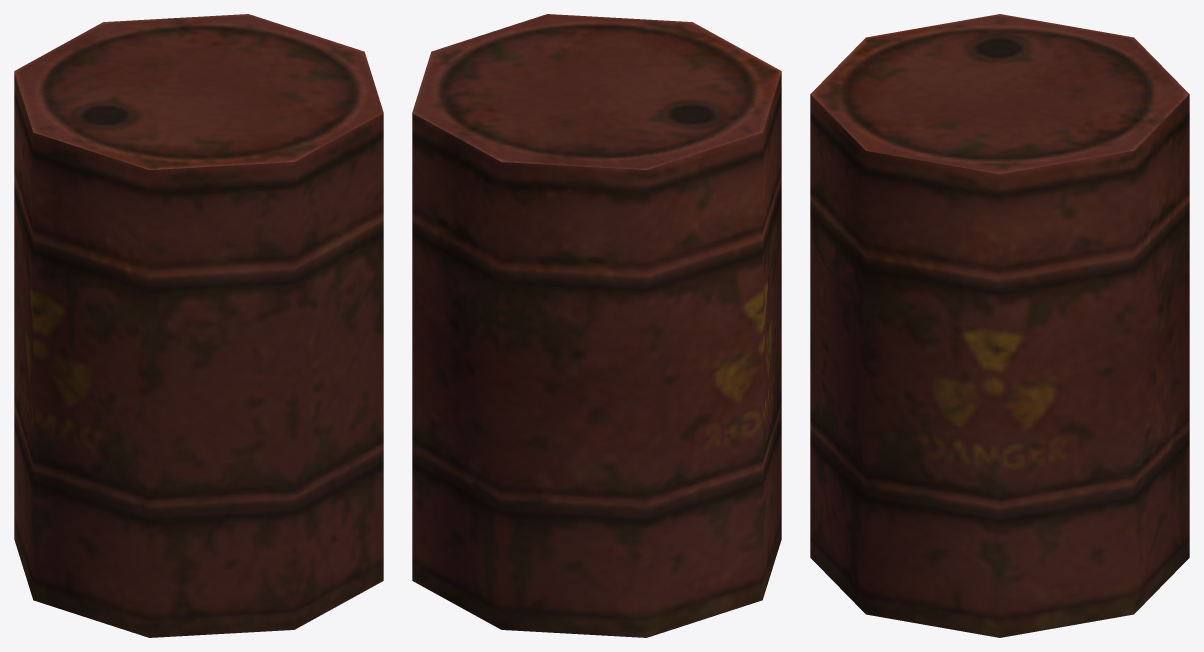
File: Stage-gongchang-youtong2.FBX
3 renders of one model, left to right at view 1: azimuth 30°, elevation 25°; view 2: azimuth 150°, elevation 25°; view 3: azimuth 270°, elevation 25°, orthographic.
Visible parts, largest first — view 1: Object31; view 2: Object31; view 3: Object31.
Part boxes in pixels (x1,y1,x2,y2): Object31: (14, 14, 383, 637); Object31: (412, 14, 781, 637); Object31: (810, 14, 1189, 637).
Bounding box in the file's own units: 1.87 × 1.87 × 2.52.
